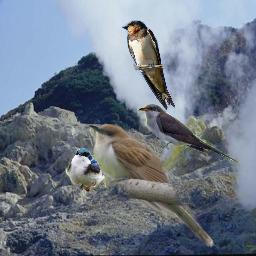Cuckoo: (87, 124, 214, 248), (137, 104, 238, 165)
Swallow: (121, 20, 175, 110), (65, 148, 115, 192)
